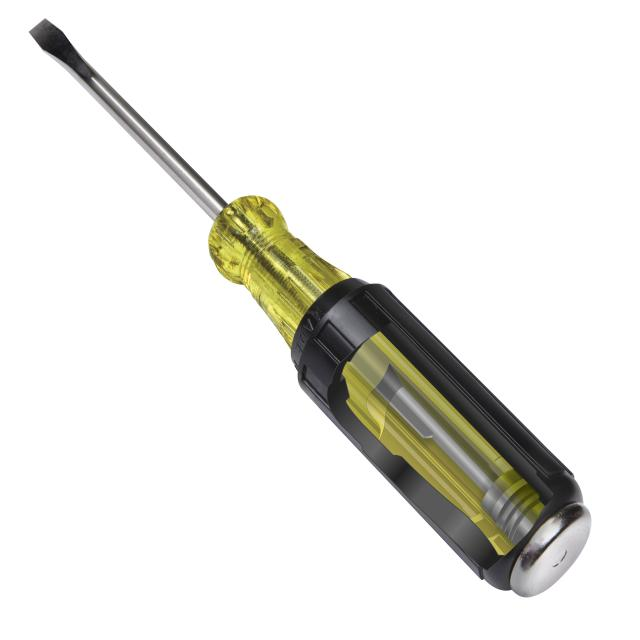Screwdriver: (31, 19, 591, 597)
